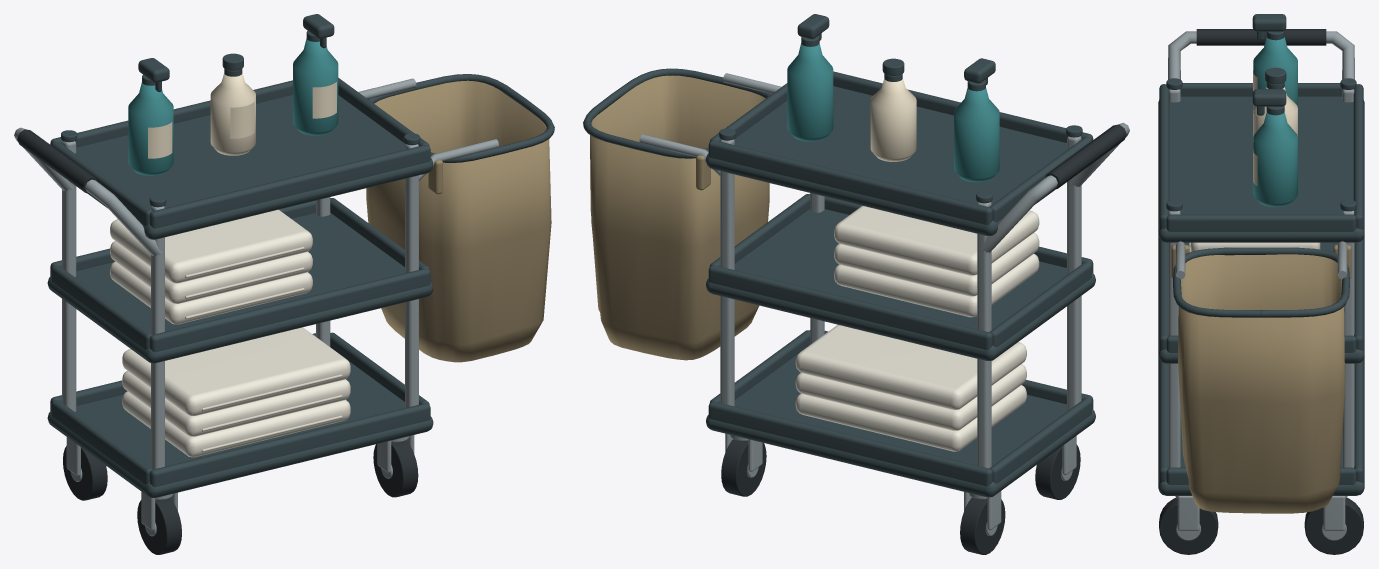
Rendered from HotelTogether-HousekeepingCart.glb.
3 views of the same model, side by side, from view 1: azimuth 30°, elevation 25°; view 2: azimuth 150°, elevation 25°; view 3: azimuth 270°, elevation 25° (orthographic). The views are drawn at different scales.
Visible parts, largest first — view 1: Cart_CanvasBag, Cart_Tray_2, Cart_Tray_1, Towel_Lower.002, Cart_Tray_0, Towel_Middle.002, Cart_TrayLip.002, Cart_TrayLip.004, Cart_TrayLip, Towel_Lower, Towel_Lower.001, Towel_Middle (+26 smaller); view 2: Cart_CanvasBag, Cart_Tray_2, Cart_Tray_1, Cart_Tray_0, Towel_Lower.002, Towel_Middle.002, Cart_TrayLip.001, Cart_TrayLip.003, Cart_TrayLip.005, Towel_Lower, Towel_Lower.001, Towel_Middle.001 (+23 smaller); view 3: Cart_CanvasBag, Cart_Tray_2, Supply_Bottle_2, Cart_TraySide.005, Cart_BagRim, Cart_FramePost.002, Cart_FramePost.003, Cart_HandleGrip, Cart_Tire.003, Cart_Tire.001, Supply_Bottle_0, Cart_TraySide.004 (+20 smaller).
Boxes of the visible parts, x1,y1,x2,y2 form: Cart_CanvasBag: (366, 80, 551, 362); Cart_Tray_2: (75, 95, 433, 239); Cart_Tray_1: (47, 213, 433, 363); Towel_Lower.002: (122, 327, 350, 415); Cart_Tray_0: (47, 361, 433, 497); Towel_Middle.002: (110, 209, 312, 283); Cart_TrayLip.002: (149, 268, 430, 352); Cart_TrayLip.004: (149, 145, 430, 228); Cart_TrayLip: (149, 403, 430, 487); Towel_Lower: (122, 391, 350, 457); Towel_Lower.001: (122, 371, 350, 436); Towel_Middle: (110, 261, 312, 324); Cart_CanvasBag: (590, 75, 769, 360); Cart_Tray_2: (706, 86, 1067, 235); Cart_Tray_1: (706, 209, 1095, 360); Cart_Tray_0: (706, 354, 1095, 497); Towel_Lower.002: (795, 325, 1026, 409); Towel_Middle.002: (834, 205, 1039, 275); Cart_TrayLip.001: (708, 401, 992, 486); Cart_TrayLip.003: (708, 265, 992, 349); Cart_TrayLip.005: (708, 140, 992, 224); Towel_Lower: (795, 385, 1026, 451); Towel_Lower.001: (795, 364, 1026, 430); Towel_Middle.001: (834, 233, 1039, 296); Cart_CanvasBag: (1178, 254, 1344, 513); Cart_Tray_2: (1158, 96, 1364, 242); Supply_Bottle_2: (1253, 112, 1297, 207); Cart_TraySide.005: (1166, 214, 1356, 231); Cart_BagRim: (1173, 247, 1349, 317); Cart_FramePost.002: (1168, 210, 1180, 467); Cart_FramePost.003: (1342, 210, 1354, 467); Cart_HandleGrip: (1196, 29, 1326, 45); Cart_Tire.003: (1304, 498, 1363, 554); Cart_Tire.001: (1159, 498, 1218, 554); Supply_Bottle_0: (1253, 37, 1297, 107); Cart_TraySide.004: (1180, 83, 1342, 96).
Bounding box in the file's own units: 1.33 × 1.21 × 0.51.
